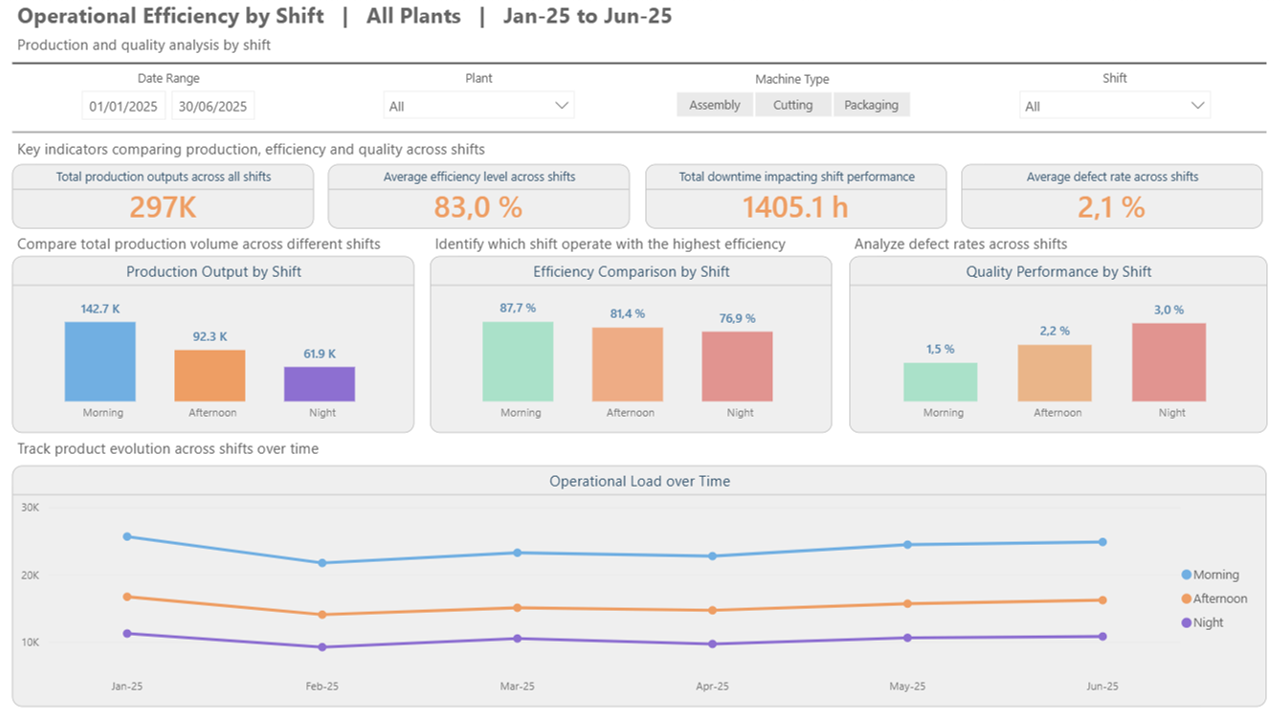

What the dashboard file says about the page in this screenshot:
{"tool":"powerbi","page":{"name":"Operational Efficiency","canvas":[1280,720],"ordinal":2},"visuals":[{"type":"textbox","box":[16,0,720,64],"z":0},{"type":"textbox","box":[16,227,400,32],"z":1000},{"type":"clusteredColumnChart","title":"Production Output by Shift","fields":{"Category":["Dim_Shift.Shift"],"Y":["KPI_Measures.Total Production"]},"box":[16,256,400,176],"z":2000},{"type":"textbox","box":[432,227,400,32],"z":3000},{"type":"textbox","box":[848,227,304,32],"z":4000},{"type":"clusteredColumnChart","title":"Efficiency Comparison by Shift","fields":{"Y":["KPI_Measures.Avg Production Efficiency"],"Category":["Dim_Shift.Shift"]},"box":[432,256,400,176],"z":5000},{"type":"clusteredColumnChart","title":"Quality Performance by Shift","fields":{"Y":["KPI_Measures.Avg Defect Rate"],"Category":["Dim_Shift.Shift"]},"box":[848,256,416,176],"z":6000},{"type":"slicer","title":"Date Range","fields":{"Values":["Dim_Date.Date"]},"box":[76.7,70,188.3,65],"z":7000},{"type":"slicer","title":"Plant","fields":{"Values":["dim_plant.Plant"]},"box":[380,70,200,65],"z":8000},{"type":"slicer","title":"Machine Type","fields":{"Values":["dim_machine.MachineType"]},"box":[656,72,272,48],"z":9000},{"type":"slicer","title":"Shift","fields":{"Values":["Dim_Shift.Shift"]},"box":[1013.3,70,200,63.3],"z":10000},{"type":"shape","box":[16,55,1248,16],"z":11000},{"type":"shape","box":[16,124,1248,16],"z":12000},{"type":"card","title":"Total production outputs across all shifts","fields":{"Values":["KPI_Measures.Total Production"]},"box":[16,165,300,64],"z":13000},{"type":"card","title":"Average efficiency level across shifts","fields":{"Values":["KPI_Measures.Avg Production Efficiency"]},"box":[330.7,165,300,64],"z":14000},{"type":"card","title":"Total downtime impacting shift performance","fields":{"Values":["KPI_Measures.Total Downtime Label"]},"box":[645.3,165,300,64],"z":15000},{"type":"card","title":"Average defect rate across shifts","fields":{"Values":["KPI_Measures.Avg Defect Rate"]},"box":[960,165,300,64],"z":16000},{"type":"textbox","box":[16,133,704,32],"z":17000},{"type":"textbox","box":[16,432,400,32],"z":18000},{"type":"lineChart","title":"Operational Load over Time","fields":{"Category":["Dim_Date.Month-Year"],"Y":["KPI_Measures.Total Production"],"Series":["Dim_Shift.Shift"]},"box":[16,464,1248,240],"z":19000}]}

Visuals, with their boxes in screenshot pixels (x1, y1, x2, y2), scaled from the page's 1280x720 canvas onto the 1280x714 screenshot:
textbox: 16,0,736,63
textbox: 16,225,416,257
"Production Output by Shift" clusteredColumnChart: 16,254,416,428
textbox: 432,225,832,257
textbox: 848,225,1152,257
"Efficiency Comparison by Shift" clusteredColumnChart: 432,254,832,428
"Quality Performance by Shift" clusteredColumnChart: 848,254,1264,428
"Date Range" slicer: 77,69,265,134
"Plant" slicer: 380,69,580,134
"Machine Type" slicer: 656,71,928,119
"Shift" slicer: 1013,69,1213,132
shape: 16,55,1264,70
shape: 16,123,1264,139
"Total production outputs across all shifts" card: 16,164,316,227
"Average efficiency level across shifts" card: 331,164,631,227
"Total downtime impacting shift performance" card: 645,164,945,227
"Average defect rate across shifts" card: 960,164,1260,227
textbox: 16,132,720,164
textbox: 16,428,416,460
"Operational Load over Time" lineChart: 16,460,1264,698
